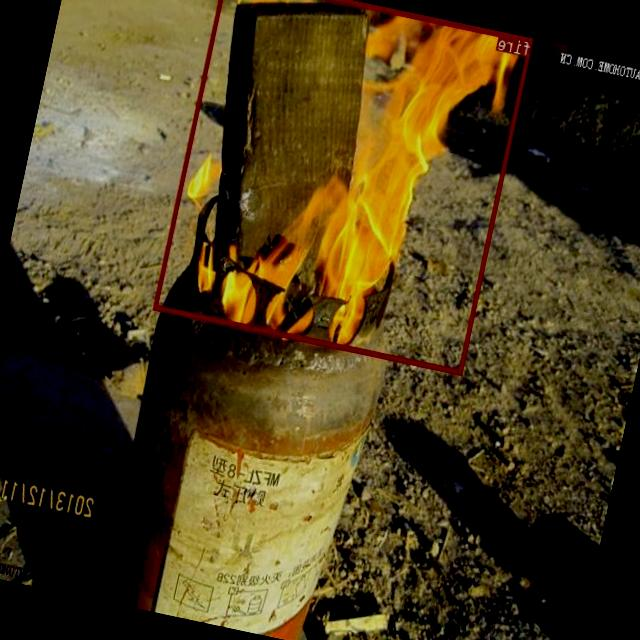fire: (153, 0, 534, 374)
